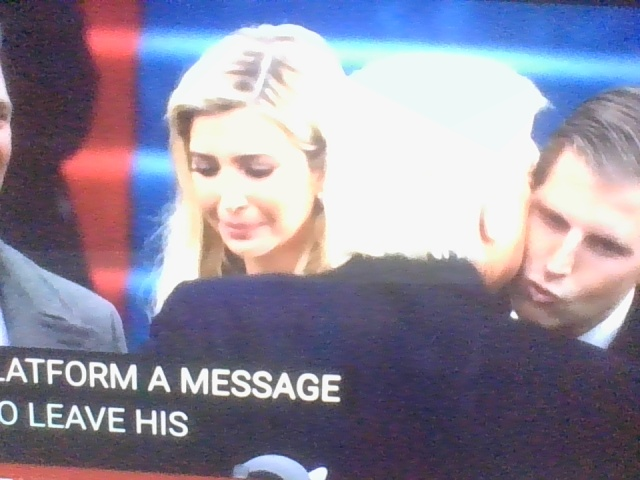fake: (174, 46, 336, 275), (505, 108, 640, 332)
